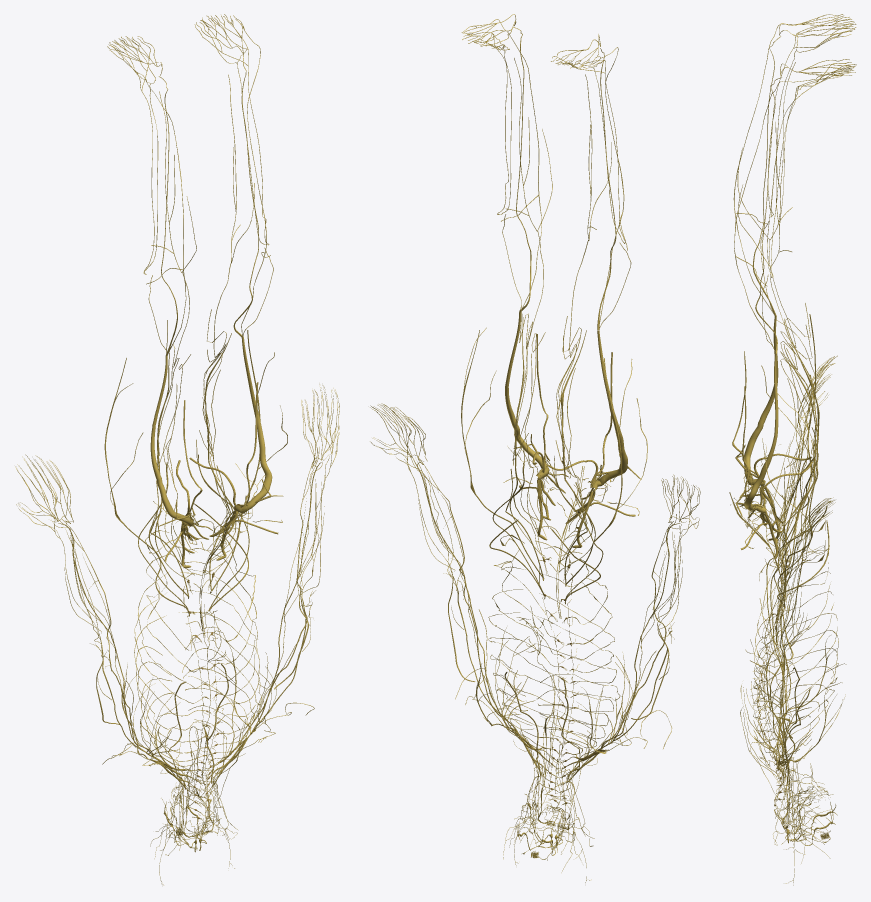
The model's file is peripheralNerves.glb.
The picture shows the model from 3 angles, left to right: view 1: azimuth 30°, elevation 25°; view 2: azimuth 150°, elevation 25°; view 3: azimuth 270°, elevation 25°; orthographic projection. The views are drawn at different scales.
Parts seen in each view (by area): view 1: ZA_Intercostal_nerves_l, ZA_Intercostal_nerves_r, ZA_Sciatic_nerve_l, ZA_Sciatic_nerve_r; view 2: ZA_Intercostal_nerves_r, ZA_Intercostal_nerves_l, ZA_Sciatic_nerve_r, ZA_Sciatic_nerve_l, ZA_Lateral_femoral_cutaneous_nerve_r, ZA_Saphenous_nerve_r, ZA_Saphenous_nerve_l; view 3: ZA_Intercostal_nerves_l, ZA_Intercostal_nerves_r, ZA_Sciatic_nerve_l, ZA_Sciatic_nerve_r, ZA_Saphenous_nerve_r, ZA_Lateral_femoral_cutaneous_nerve_l, ZA_Lateral_femoral_cutaneous_nerve_r, ZA_Saphenous_nerve_l, ZA_Femoral_nerve_l, ZA_Femoral_nerve_r, ZA_Tibial_nerve_l, ZA_Tibial_nerve_r (+8 smaller).
Part boxes in pixels (x1,y1,x2,y2): ZA_Intercostal_nerves_l: [179, 519, 262, 766]; ZA_Intercostal_nerves_r: [134, 530, 205, 770]; ZA_Sciatic_nerve_l: [234, 337, 272, 513]; ZA_Sciatic_nerve_r: [150, 356, 193, 526]; ZA_Intercostal_nerves_r: [534, 546, 620, 754]; ZA_Intercostal_nerves_l: [488, 534, 561, 749]; ZA_Sciatic_nerve_r: [590, 330, 627, 489]; ZA_Sciatic_nerve_l: [505, 312, 549, 479]; ZA_Lateral_femoral_cutaneous_nerve_r: [566, 358, 647, 584]; ZA_Saphenous_nerve_r: [556, 74, 611, 462]; ZA_Saphenous_nerve_l: [514, 58, 552, 446]; ZA_Intercostal_nerves_l: [753, 540, 838, 760]; ZA_Intercostal_nerves_r: [753, 519, 838, 748]; ZA_Sciatic_nerve_l: [744, 354, 778, 513]; ZA_Sciatic_nerve_r: [744, 316, 778, 485]; ZA_Saphenous_nerve_r: [737, 62, 818, 437]; ZA_Lateral_femoral_cutaneous_nerve_l: [762, 375, 817, 590]; ZA_Lateral_femoral_cutaneous_nerve_r: [761, 314, 815, 575]; ZA_Saphenous_nerve_l: [738, 96, 816, 445]; ZA_Femoral_nerve_l: [778, 347, 816, 571]; ZA_Femoral_nerve_r: [779, 318, 819, 560]; ZA_Tibial_nerve_l: [755, 77, 781, 353]; ZA_Tibial_nerve_r: [752, 36, 780, 316].
Bounding box in the file's own units: 646 × 1594 × 222.
